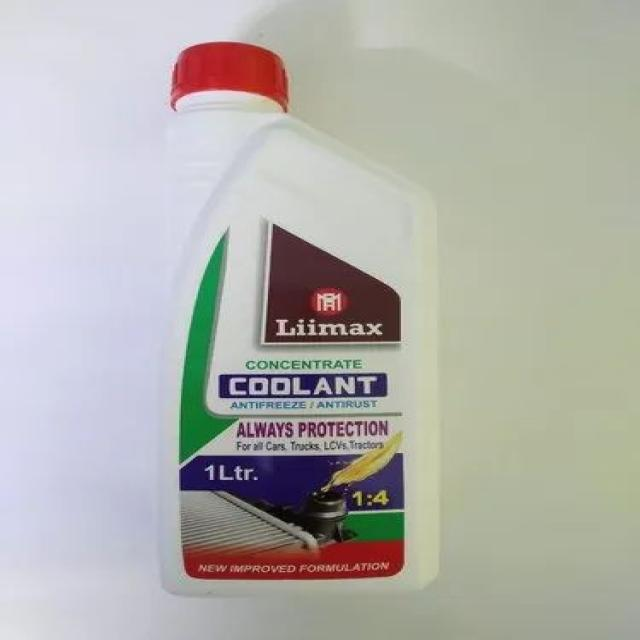coolant: (134, 39, 447, 604)
